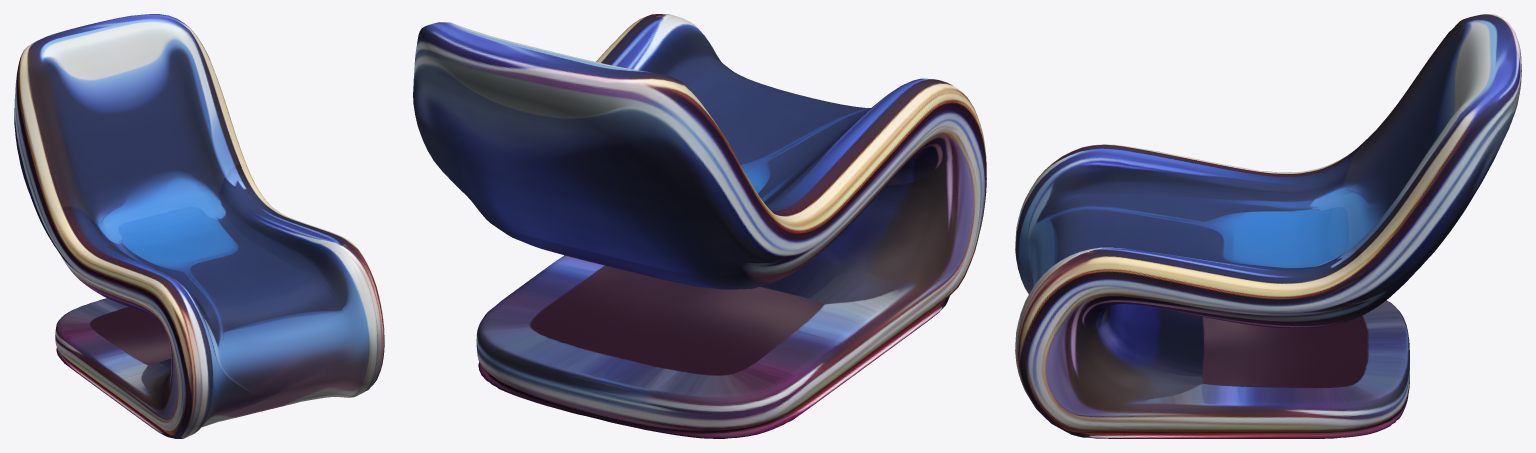
The model's file is uploads_files_5695094_FuturisticChair.fbx.
3 renders of one model, left to right at view 1: azimuth 30°, elevation 25°; view 2: azimuth 150°, elevation 25°; view 3: azimuth 270°, elevation 25°, orthographic. The views are drawn at different scales.
Parts seen in each view (by area): view 1: base; view 2: base; view 3: base.
Part boxes in pixels (x1,y1,x2,y2): base: (14,14,384,438); base: (413,14,986,438); base: (1015,14,1521,438).
Size of the model in its own units: 107 by 135 by 190.
1 material, 1 textured.
